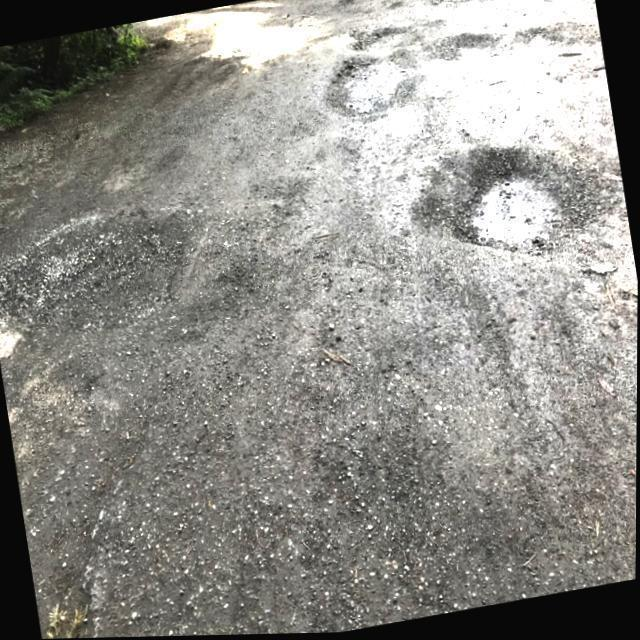Pothole: (454, 162, 575, 254), (338, 31, 410, 117)
